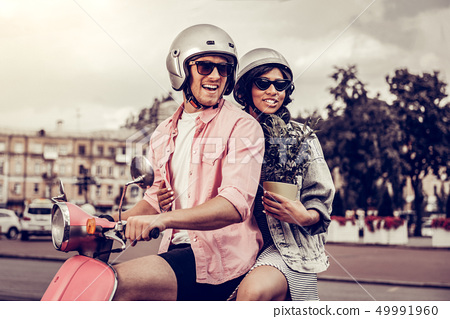helmet: (163, 23, 238, 90), (231, 44, 292, 85)
